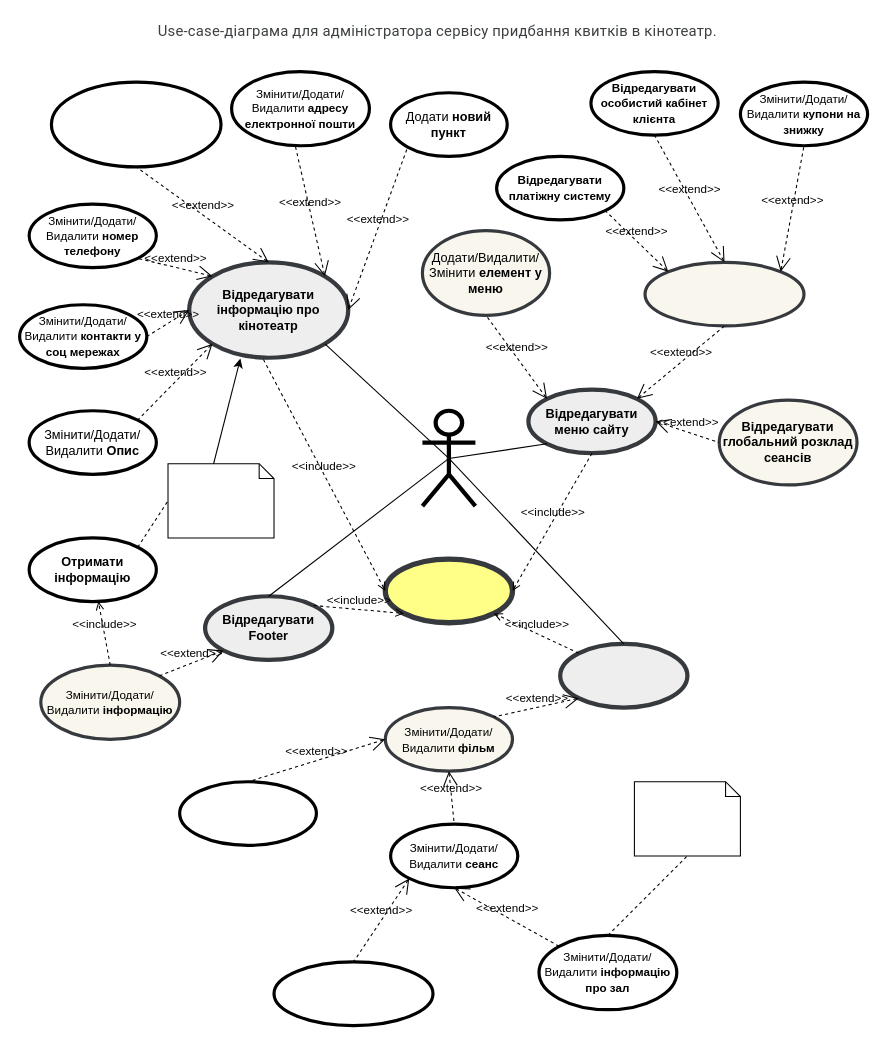
Image size: 887x1045. Some labels were removed from this diagram. The shapes that lost their labels are listed below. From the top down, each one's box as (x1, y1, x2, y2) in pixels, then its label:
(49, 80, 222, 168): Змінити/Додати/Видалити розташування кінотеатрів
(643, 260, 805, 327): Відредагувати клієнтську систему
(420, 408, 477, 508): Administrator
(167, 463, 274, 538): Ця інформація лежить тут
(382, 556, 515, 625): Авторизуватись як адміністратор
(558, 641, 689, 709): Відредагувати фільми
(178, 780, 317, 846): Змінити/Додати/Видалити інформацію про фільм
(633, 781, 740, 856): Перевірити чи вільний зал
(272, 960, 434, 1027): ВІдредагувати інформацію про ціну
